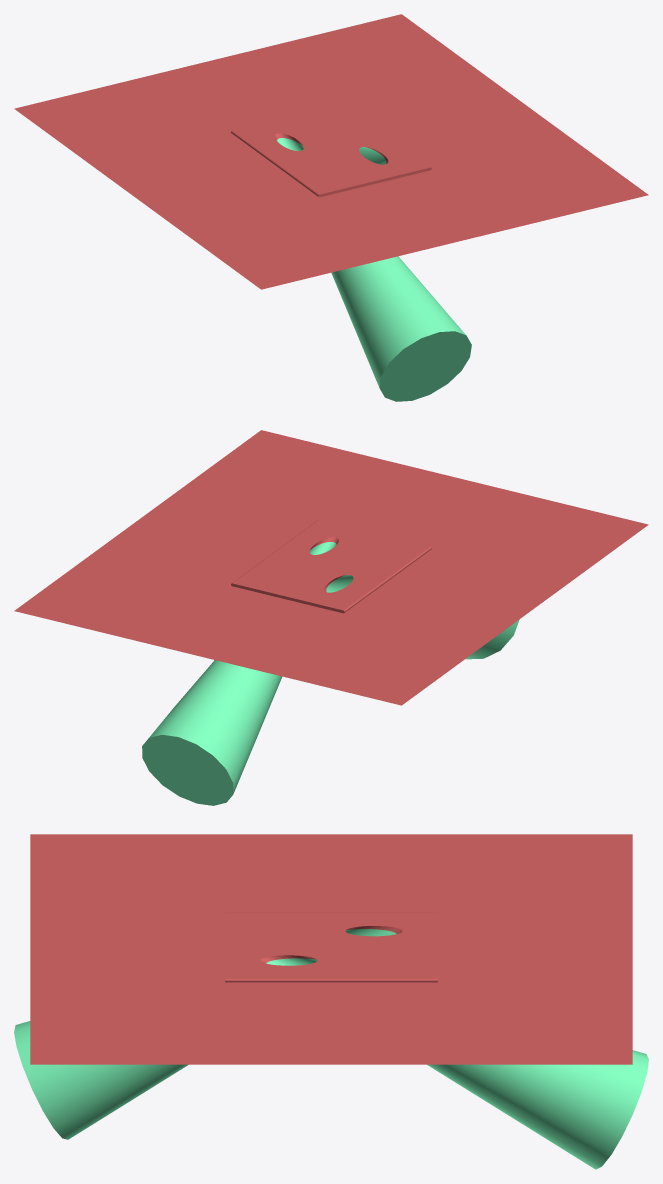
The model's file is In Class Table 2.fbx.
3 renders of one model, top to bottom at view 1: azimuth 30°, elevation 25°; view 2: azimuth 150°, elevation 25°; view 3: azimuth 270°, elevation 25°, orthographic. The views are drawn at different scales.
Visible parts, largest first — view 1: Shroud, Cone, Original Table - in class; view 2: Shroud, Cone, Original Table - in class; view 3: Shroud, Cone, Original Table - in class.
Boxes of the visible parts, x1,y1,x2,y2 form: Shroud: (14,14,648,289); Cone: (277,138,471,401); Original Table - in class: (231,103,431,197); Shroud: (14,430,648,705); Cone: (142,542,519,805); Original Table - in class: (231,519,431,613); Shroud: (30,834,632,1064); Cone: (14,929,648,1169); Original Table - in class: (225,912,437,982).
Bounding box in the file's own units: 6244 × 7276 × 2563.
